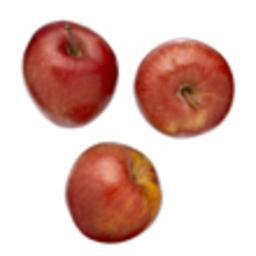apple: (21, 20, 119, 131), (135, 39, 234, 139), (66, 140, 162, 243)
